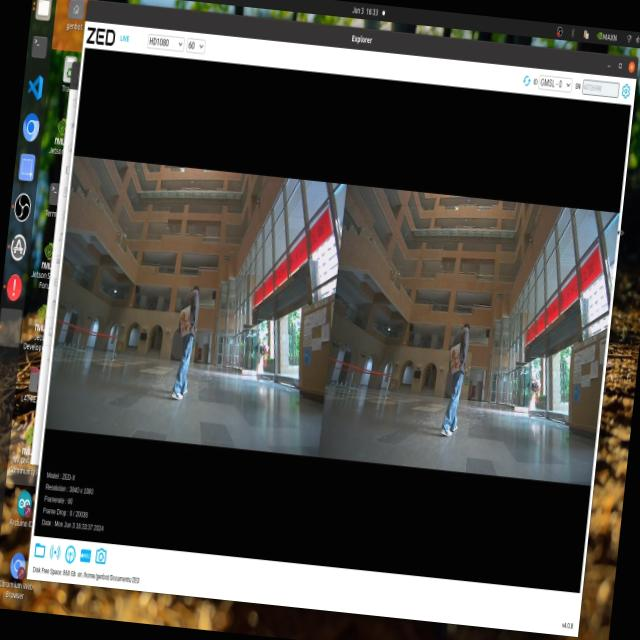red: (447, 347, 464, 382), (176, 308, 190, 338)
